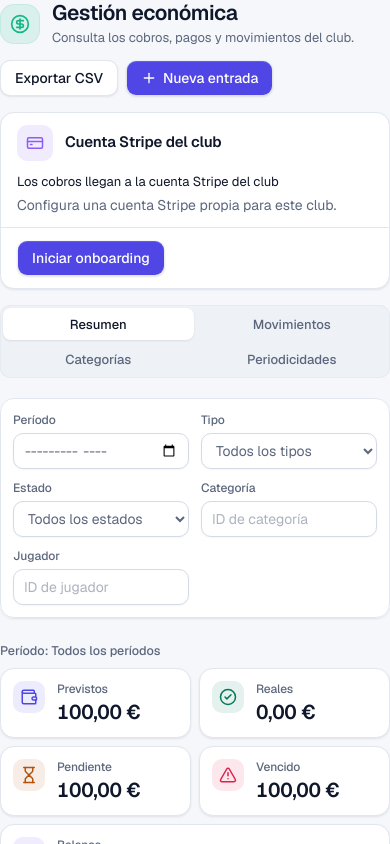
Test: EconomiaPage route › muestra el estado y el error controlado al registrar un movimiento
Click the tab "Movimientos": (292, 324) left=196, top=308, right=387, bottom=340
(page scrolled)
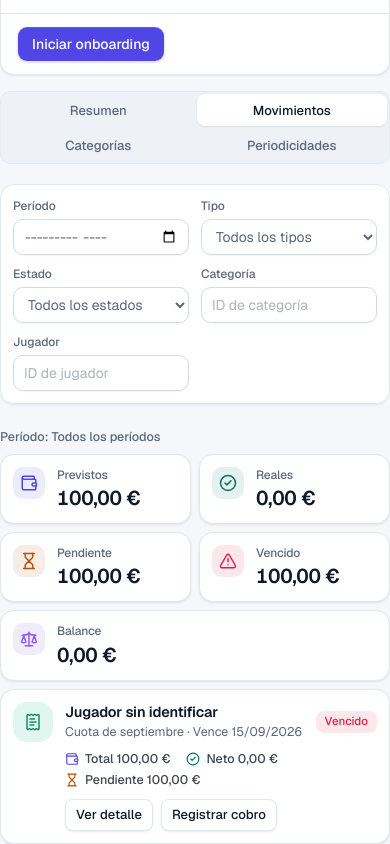
Click the button with aria-label "Registrar cobro de Cuota de septiembre": (219, 815) left=161, top=799, right=277, bottom=831
(page scrolled)
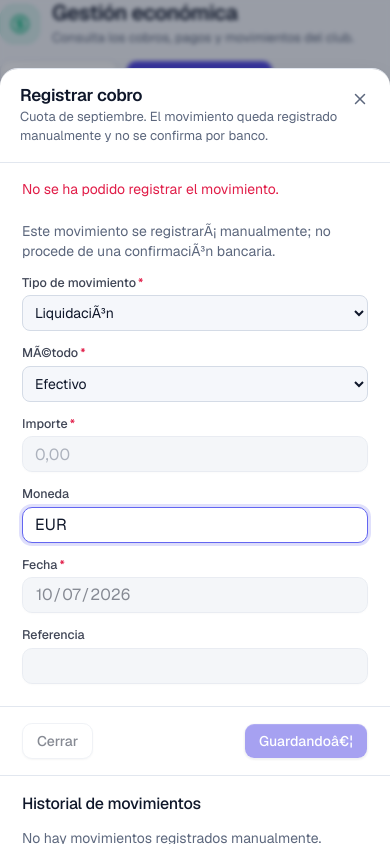
Expected: the message reads "No se ha podido registrar el movimiento.", left=22, top=180, right=279, bottom=198
Expected: the button "Guardandoâ€¦" is disabled, left=244, top=723, right=368, bottom=759
